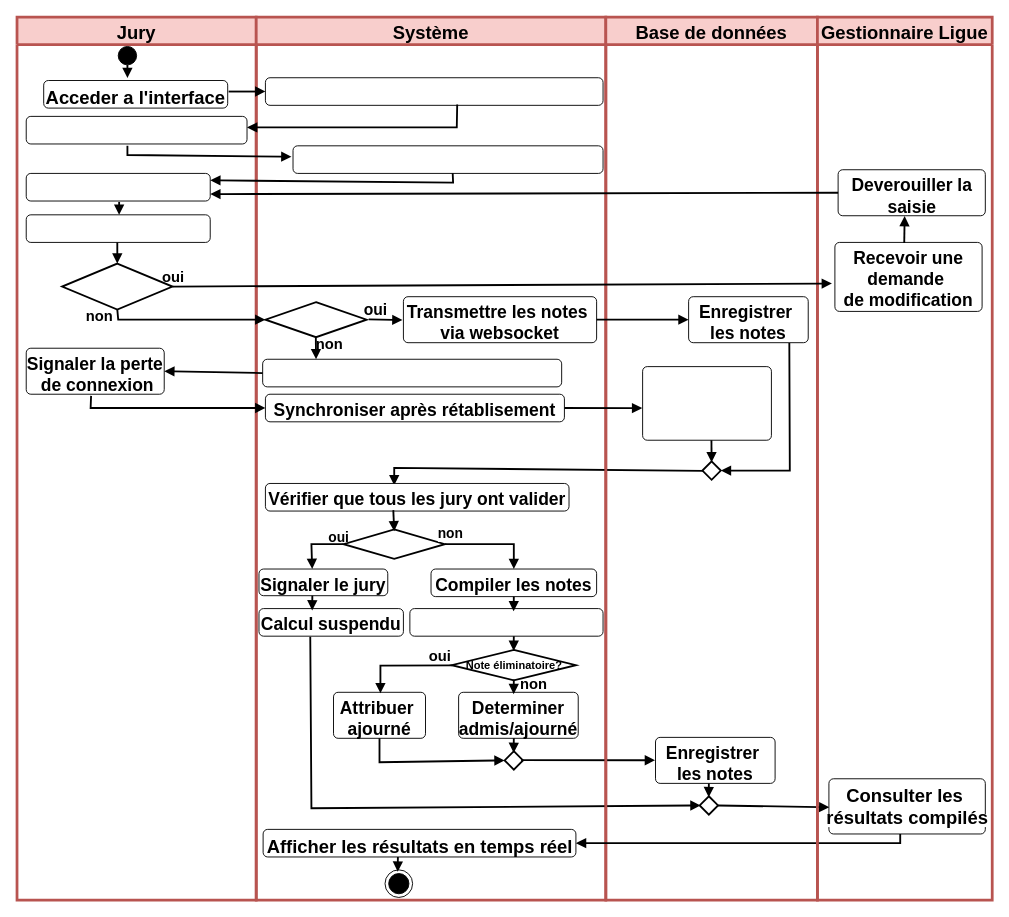
The diagram is 1009 pixels wide and 917 high, and some of its shapes have lost their labels. The centre of each missing label's shape, as x and y in pixels:
Afficher candidats+grille de notation: the point at 447,159
Afficher la liste des candidats autorisés: the point at 433,91
Calculer les moyennes: the point at 506,622
Connexion disponible?: the point at 315,319
Demande de modification?: the point at 117,286
Enregistrer les notes synchronisées: the point at 706,403
Note maquantes: the point at 393,543
Saisir les notes: the point at 117,186
Selectionner le candidat: the point at 136,129
Stocker temporairement les notes: the point at 412,372
Valider les notes: the point at 117,228
